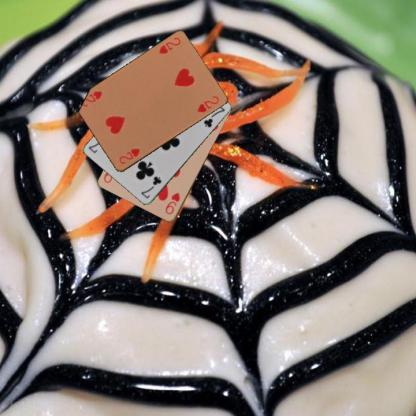2h: (156, 35, 182, 56), (116, 146, 142, 166)
7c: (138, 174, 163, 200)
9h: (163, 190, 181, 216)
